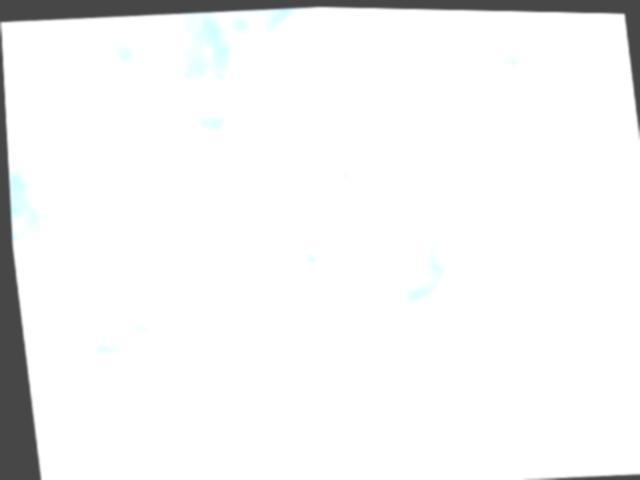uav: (334, 165, 350, 182)
